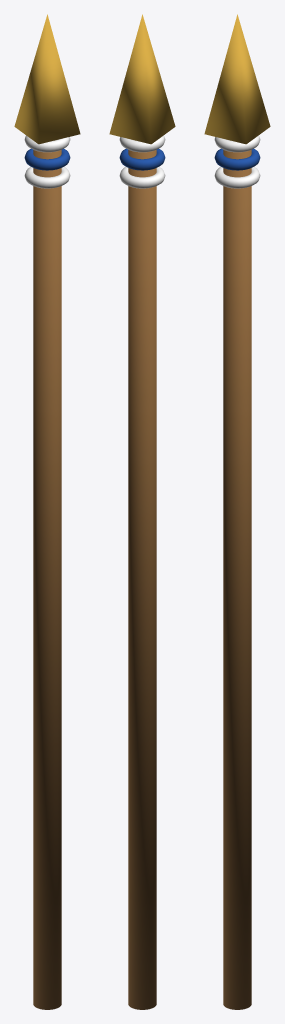
Rendered from lanza_desierto_larga.glb.
3 views of the same model, side by side, from view 1: azimuth 30°, elevation 25°; view 2: azimuth 150°, elevation 25°; view 3: azimuth 330°, elevation 25° (orthographic).
Parts seen in each view (by area): view 1: lanza_desierto_larga_fijo; view 2: lanza_desierto_larga_fijo; view 3: lanza_desierto_larga_fijo.
Part boxes in pixels (<box>): lanza_desierto_larga_fijo: <box>14,14,80,1009</box>; lanza_desierto_larga_fijo: <box>109,14,175,1009</box>; lanza_desierto_larga_fijo: <box>204,14,270,1009</box>.
Size of the model in its own units: 0.1697 by 3.82 by 0.1697.
Materials: 2 (2 with a texture image).
